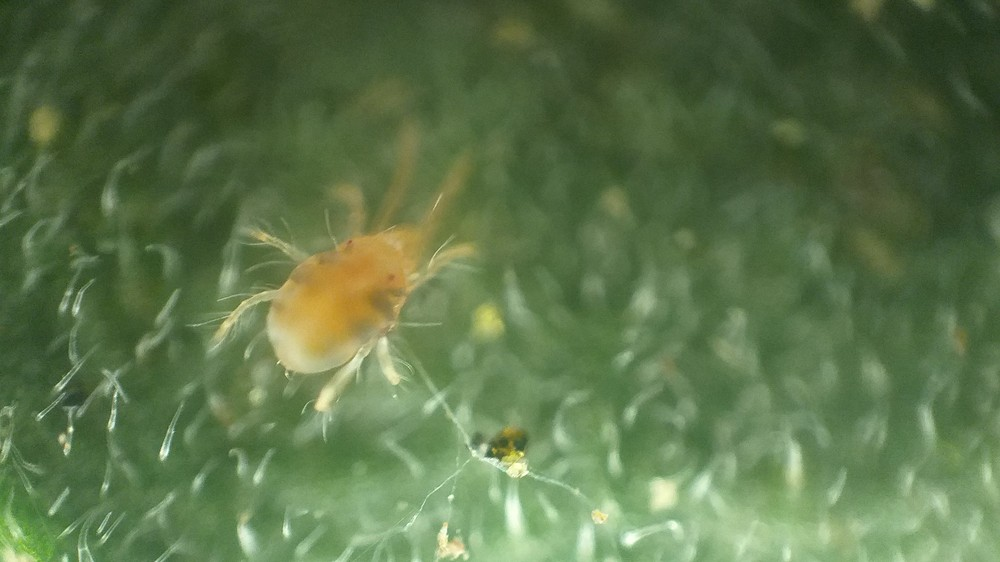Aracnido Rojo: (191, 132, 508, 433)
